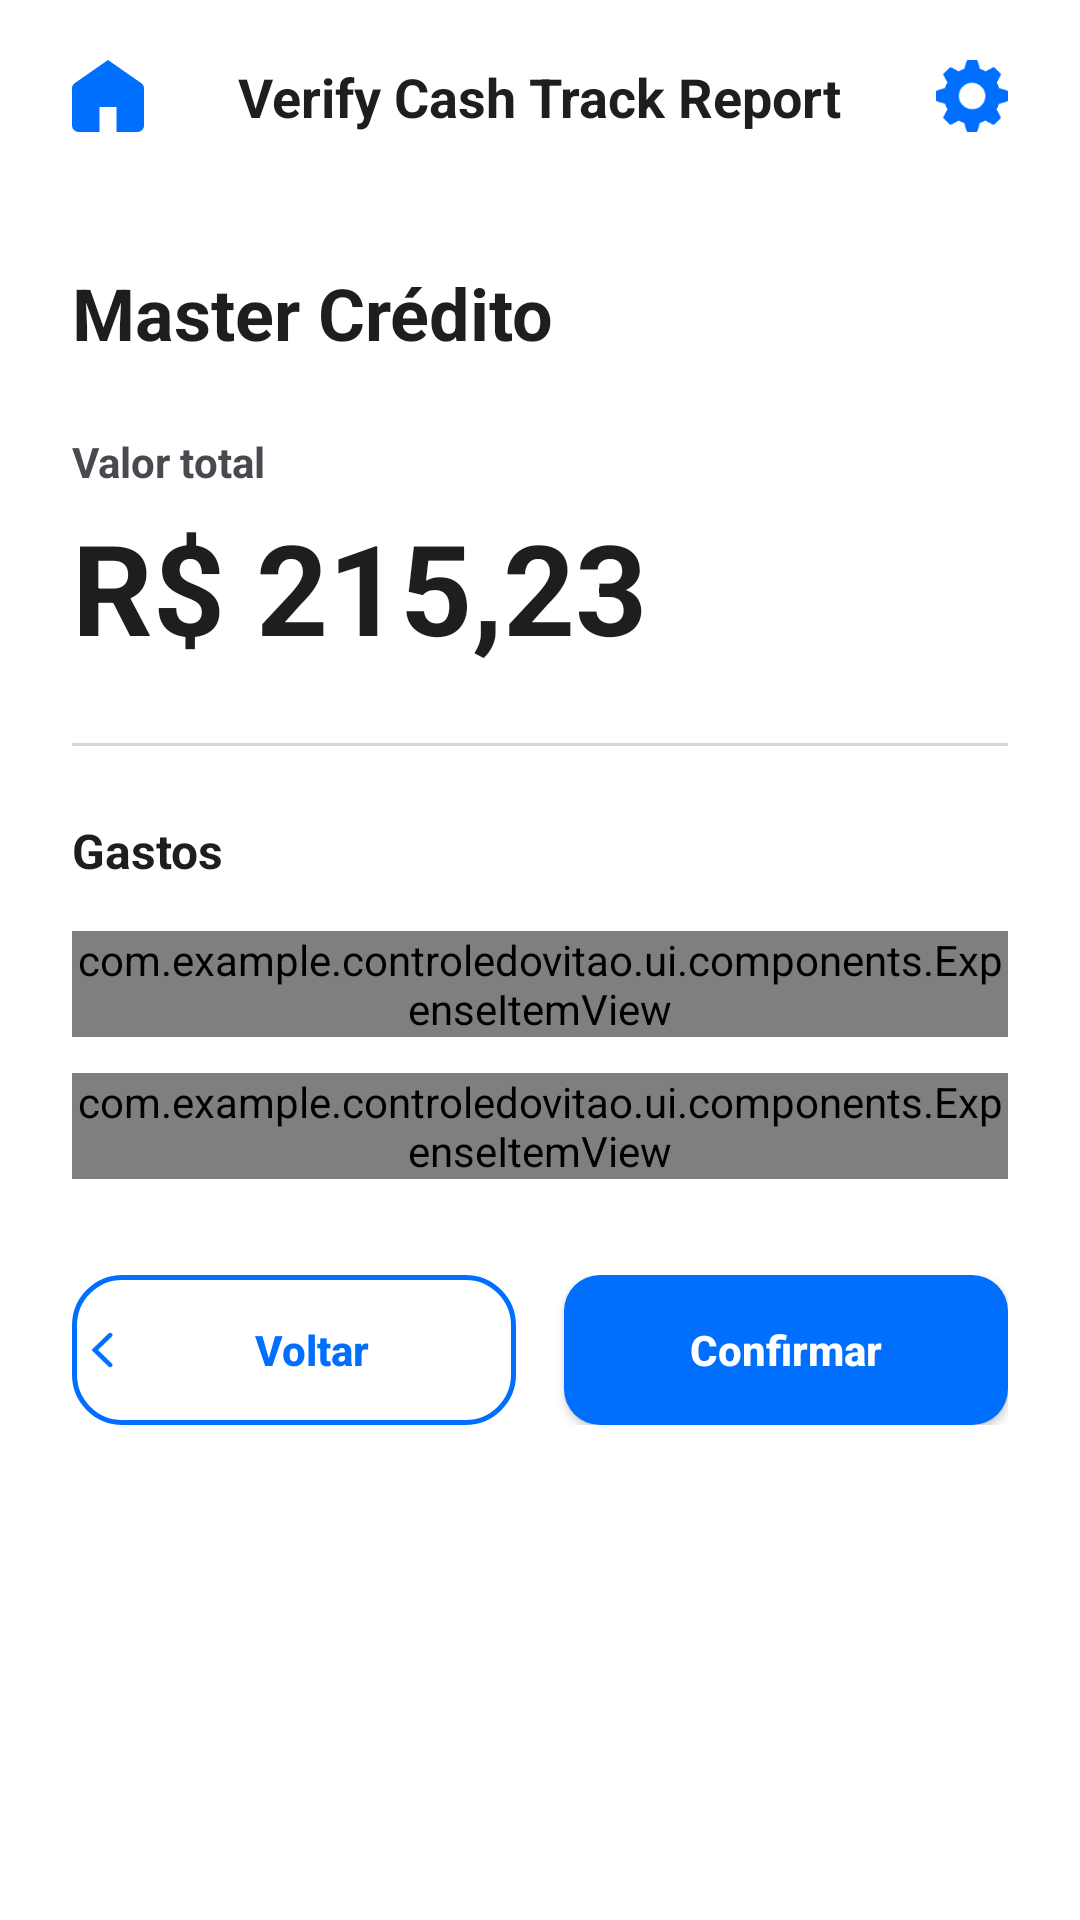

Icon bounding boxes for this 1080×1920 phone screenshot, format box(x1, y1, x2, y2):
Configurações: box(936, 60, 1008, 132)
Home: box(72, 60, 144, 132)
